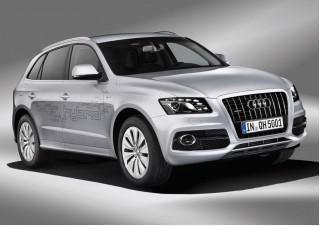Audi: (242, 93, 277, 114)
